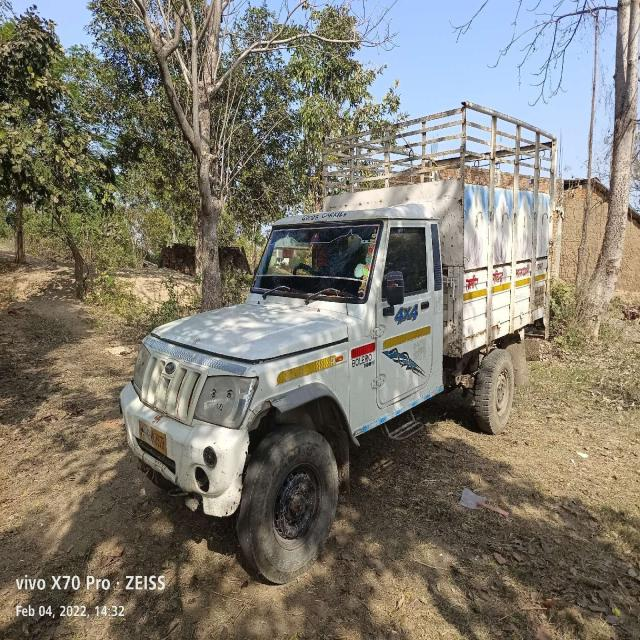light_vehicle: (118, 218, 556, 524)
